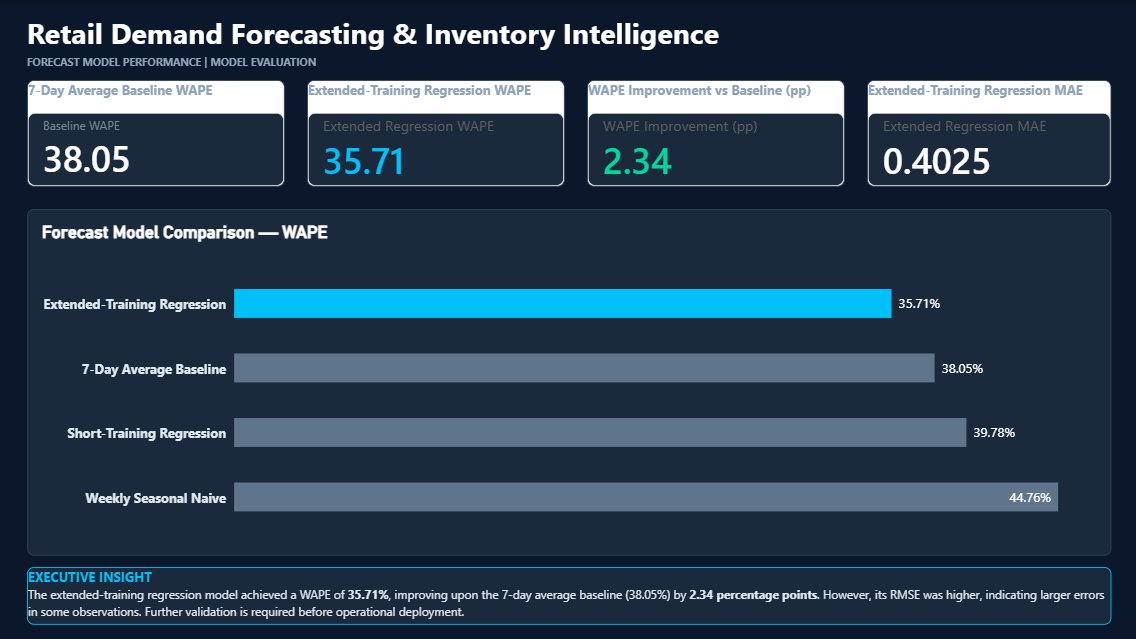

Layout of this report page (visuals, bound fields, positions):
{"tool":"powerbi","page":{"name":"Forecast Model Performance","canvas":[1280,720],"ordinal":0},"visuals":[{"type":"clusteredBarChart","title":"Forecast Model Comparison — WAPE","fields":{"Category":["11_forecast_model_comparison.Model Display Name"],"Y":["Avg(11_forecast_model_comparison.WAPE_percent)"]},"box":[30,235,1220,390],"z":0},{"type":"cardVisual","title":"7-Day Average Baseline WAPE","fields":{"Data":["11_forecast_model_comparison.Baseline WAPE"]},"box":[30,90,290,120],"z":1000},{"type":"cardVisual","title":"Extended-Training Regression WAPE","fields":{"Data":["11_forecast_model_comparison.Extended Regression WAPE"]},"box":[345,90,290,120],"z":2000},{"type":"cardVisual","title":"WAPE Improvement vs Baseline (pp)","fields":{"Data":["11_forecast_model_comparison.WAPE Improvement (pp)"]},"box":[660,90,290,120],"z":3000},{"type":"cardVisual","title":"Extended-Training Regression MAE","fields":{"Data":["11_forecast_model_comparison.Extended Regression MAE"]},"box":[975,90,275,120],"z":4000},{"type":"textbox","box":[30.3,15.2,1220,55],"z":5000},{"type":"textbox","box":[30,60,1220,20],"z":6000},{"type":"textbox","box":[30.3,637.9,1220,65],"z":7000}]}

Visuals, with their boxes in screenshot pixels (x1, y1, x2, y2), scaled from the page's 1280x720 canvas onto the 1136x639 screenshot:
"Forecast Model Comparison — WAPE" clusteredBarChart: box(27, 209, 1109, 555)
"7-Day Average Baseline WAPE" cardVisual: box(27, 80, 284, 186)
"Extended-Training Regression WAPE" cardVisual: box(306, 80, 564, 186)
"WAPE Improvement vs Baseline (pp)" cardVisual: box(586, 80, 843, 186)
"Extended-Training Regression MAE" cardVisual: box(865, 80, 1109, 186)
textbox: box(27, 13, 1110, 62)
textbox: box(27, 53, 1109, 71)
textbox: box(27, 566, 1110, 624)
